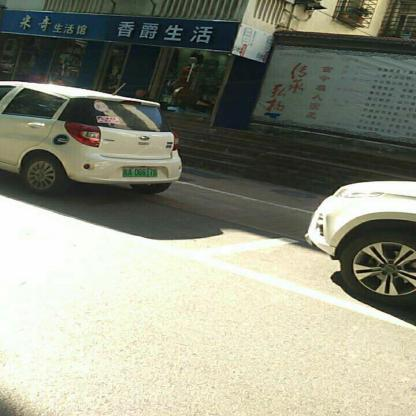lp: (122, 167, 156, 176)
